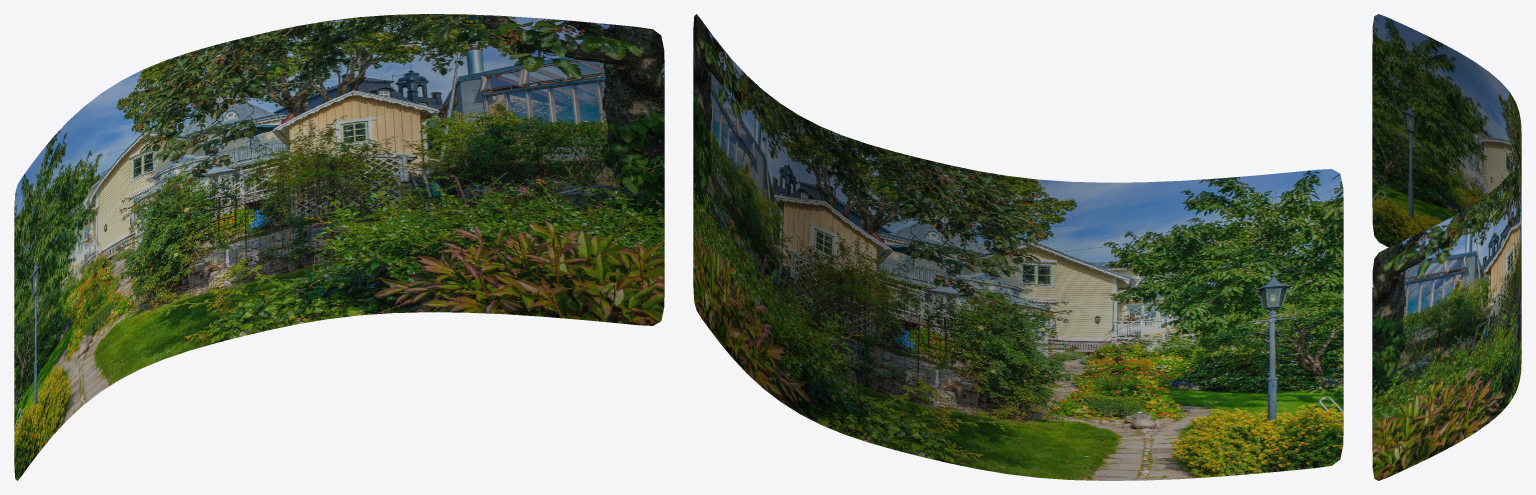
File: taust_akna_taga.fbx
The picture shows the model from 3 angles, left to right: view 1: azimuth 30°, elevation 25°; view 2: azimuth 150°, elevation 25°; view 3: azimuth 270°, elevation 25°; orthographic projection. The views are drawn at different scales.
Parts seen in each view (by area): view 1: ruum.001; view 2: ruum.001; view 3: ruum.001.
Boxes of the visible parts, x1,y1,x2,y2 form: ruum.001: (14, 14, 664, 480); ruum.001: (693, 14, 1343, 480); ruum.001: (1372, 14, 1521, 480).
Bounding box in the file's own units: 8143 × 3567 × 2100.
